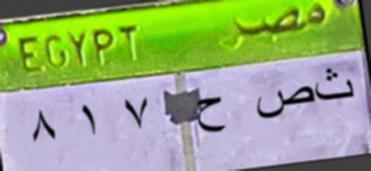1: (76, 101, 107, 144)
7: (124, 95, 152, 133)
7aa: (194, 93, 233, 140)
8: (23, 106, 61, 151)
saad: (247, 82, 312, 124)
thaa: (314, 64, 354, 112)
